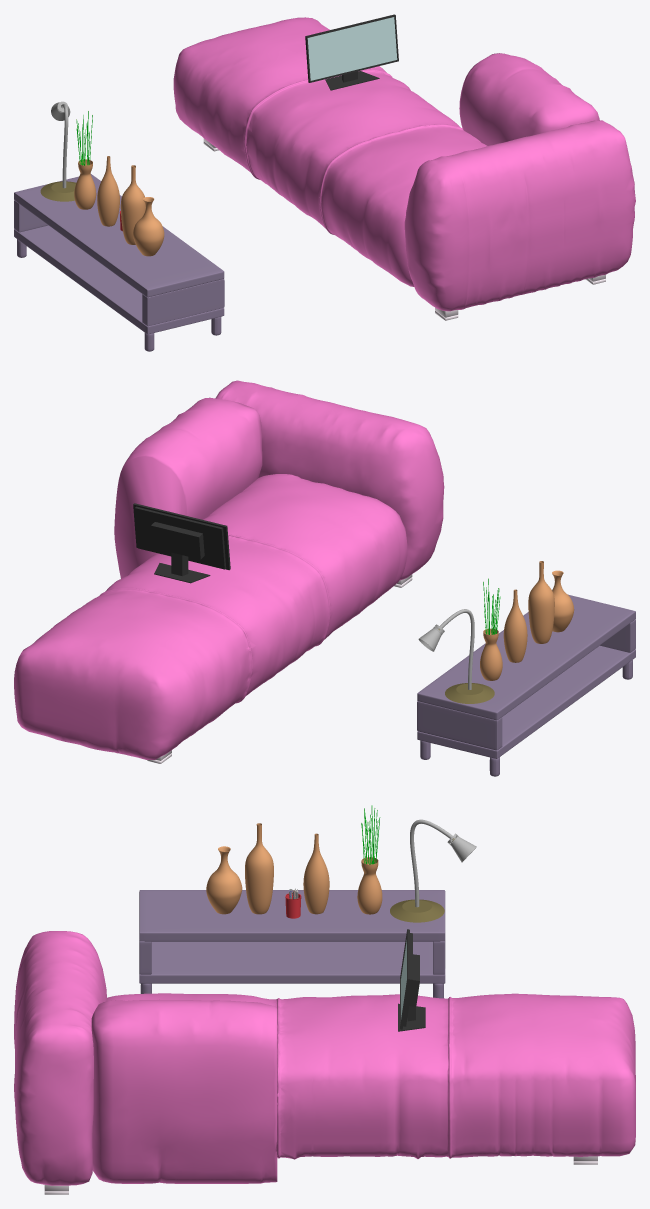
File: Decoration_1.fbx
3 renders of one model, top to bottom at view 1: azimuth 30°, elevation 25°; view 2: azimuth 150°, elevation 25°; view 3: azimuth 270°, elevation 25°, orthographic. The views are drawn at different scales.
Parts seen in each view (by area): view 1: Chair back legs.002, TV_movel, Cube.000, Cylinder.006, Sphere.003, Circle.003, Circle.004, Circle.005; view 2: Chair back legs.002, TV_movel, Cube.000, Sphere.003, Circle.004, Cylinder.006, Circle.005, Circle.003; view 3: Chair back legs.002, TV_movel, Sphere.003, Cube.000, Circle.004, Cylinder.006, Circle.003, Circle.005.
Part boxes in pixels (<box>): Chair back legs.002: <box>173,17,635,320</box>; TV_movel: <box>14,174,224,351</box>; Cube.000: <box>305,14,398,90</box>; Cylinder.006: <box>74,111,96,209</box>; Sphere.003: <box>40,101,76,201</box>; Circle.003: <box>133,197,164,256</box>; Circle.004: <box>120,165,145,244</box>; Circle.005: <box>97,156,119,226</box>; Chair back legs.002: <box>14,380,444,763</box>; TV_movel: <box>417,594,635,776</box>; Cube.000: <box>133,503,230,583</box>; Sphere.003: <box>418,609,494,703</box>; Circle.004: <box>528,561,554,643</box>; Cylinder.006: <box>480,578,502,680</box>; Circle.005: <box>503,589,527,662</box>; Circle.003: <box>552,570,574,632</box>; Chair back legs.002: <box>14,931,635,1194</box>; TV_movel: <box>139,890,445,998</box>; Sphere.003: <box>390,819,476,922</box>; Cube.000: <box>398,929,425,1031</box>; Circle.004: <box>245,823,273,914</box>; Cylinder.006: <box>357,805,382,914</box>; Circle.003: <box>206,846,242,914</box>; Circle.005: <box>303,833,329,914</box>.
Size of the model in its own units: 2.49 by 0.8764 by 2.64.
